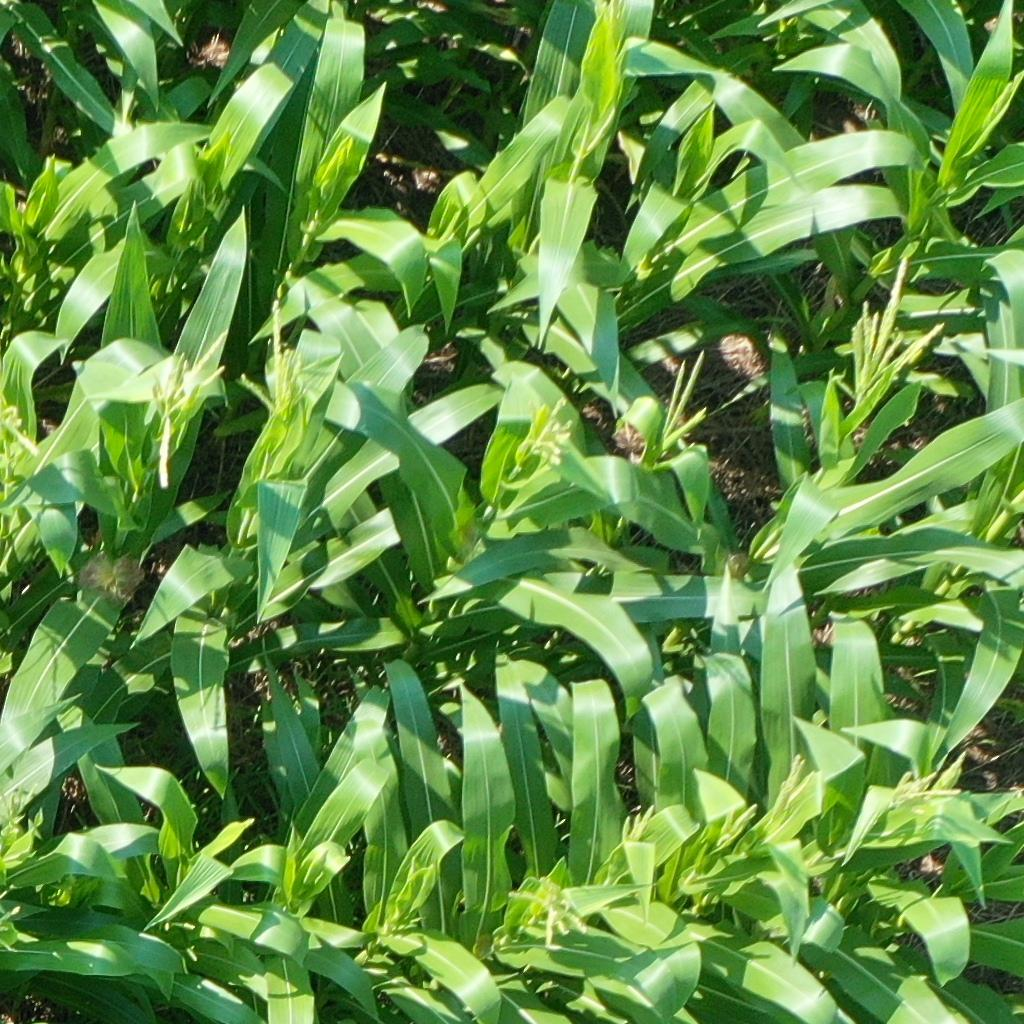Tassel: (840, 251, 948, 412), (131, 321, 227, 492), (236, 290, 333, 430), (875, 746, 961, 831), (505, 869, 589, 951), (651, 348, 710, 456), (515, 385, 575, 476), (1, 381, 42, 469), (768, 751, 815, 820), (707, 798, 759, 853), (1, 778, 44, 838), (608, 804, 661, 848), (1, 900, 21, 951)
